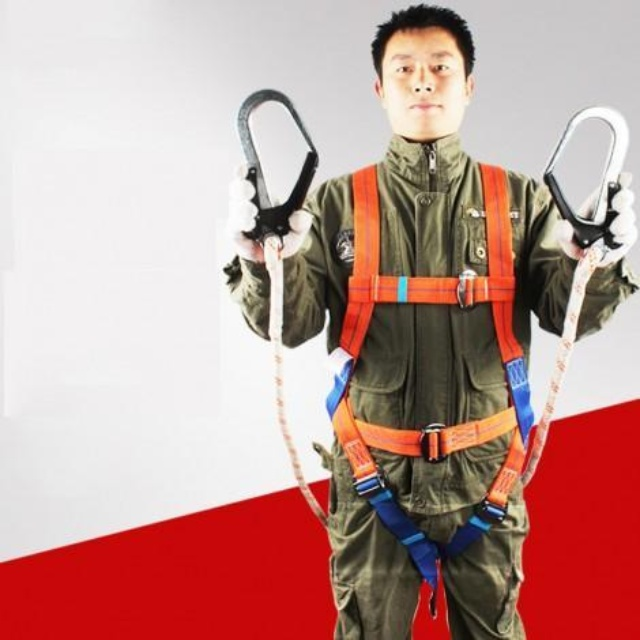Arnes_seguridad: (330, 153, 541, 525)
